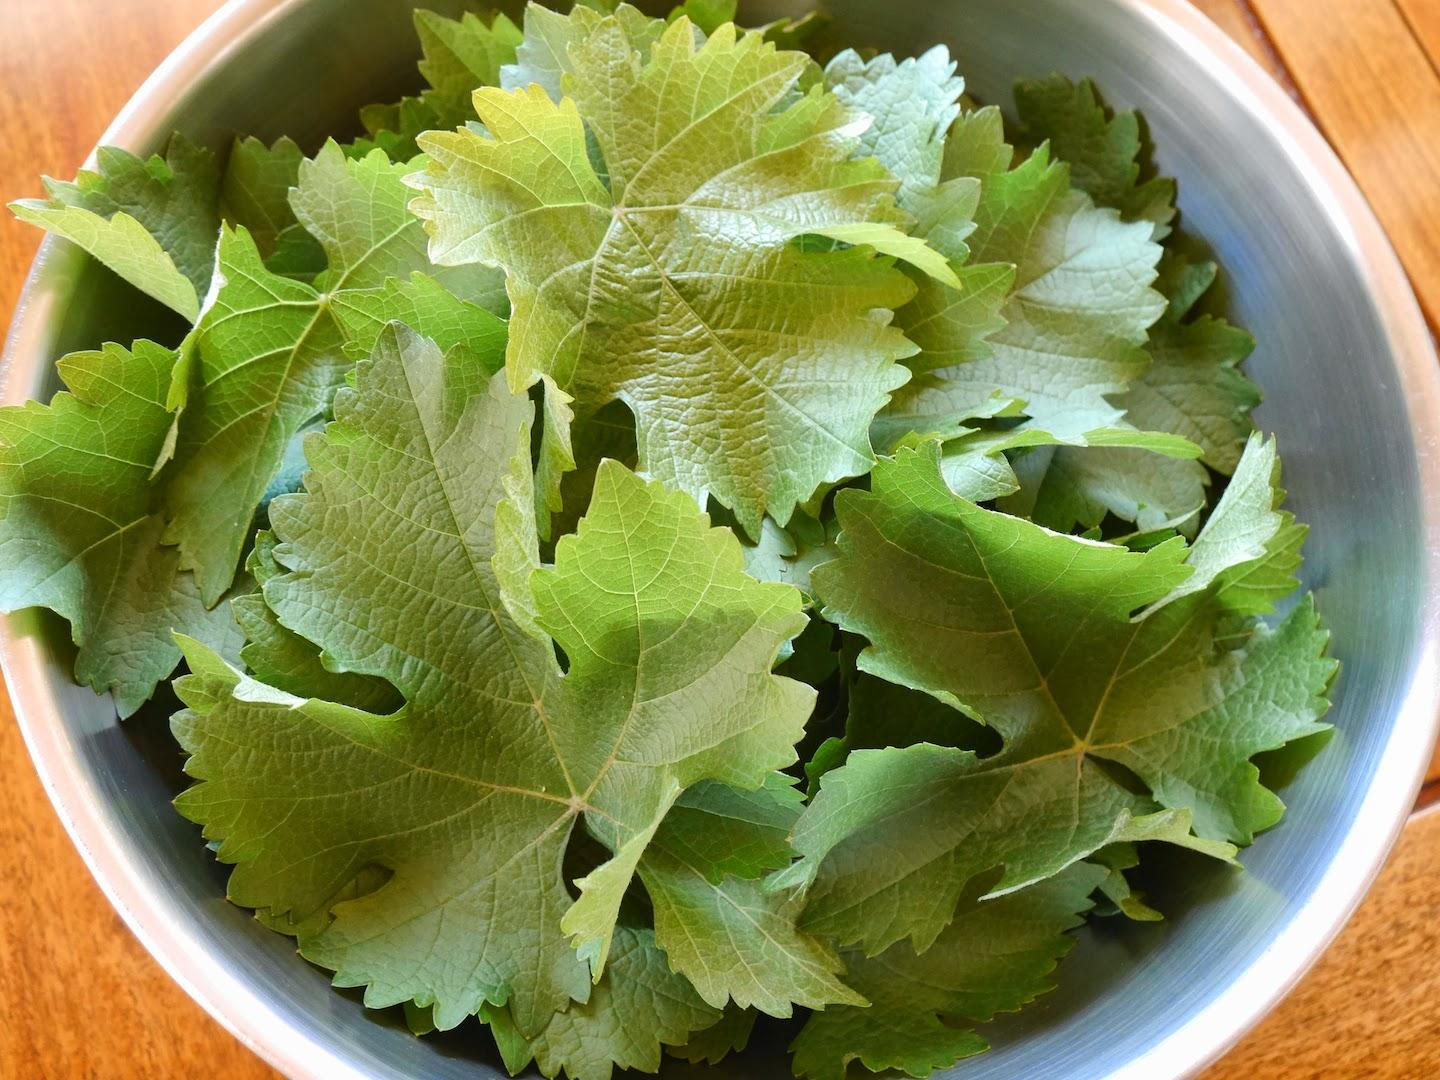grape leaf black rot: (180, 340, 799, 1002), (830, 427, 1355, 910), (446, 29, 892, 490)
